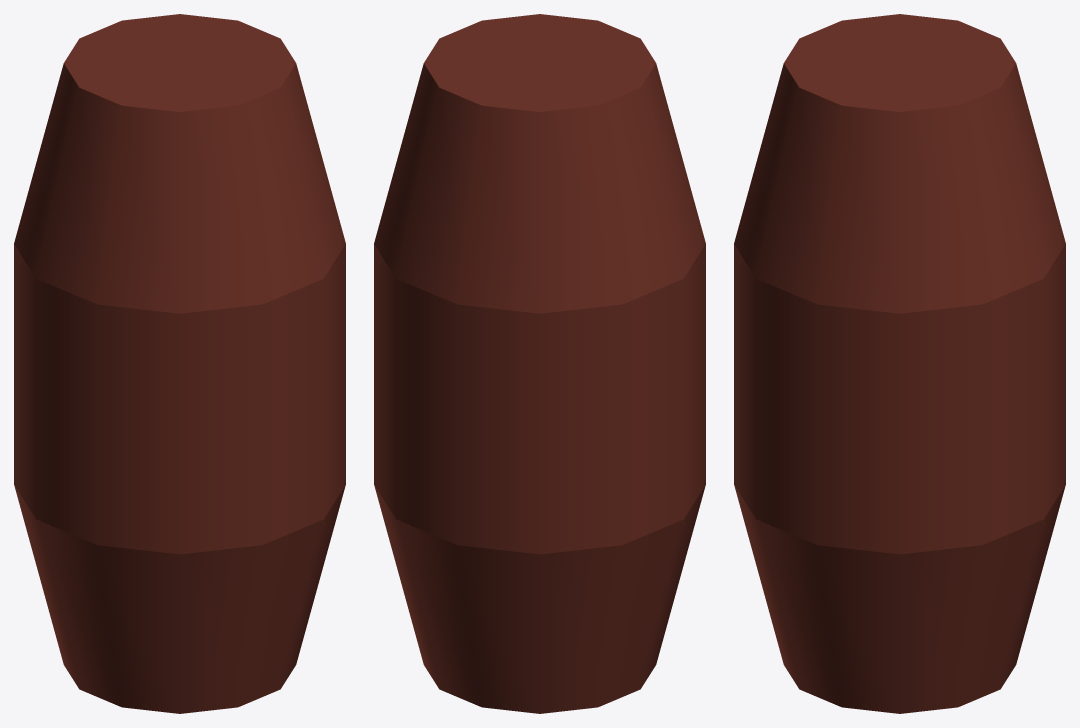
3 views of the same model, side by side, from view 1: azimuth 30°, elevation 25°; view 2: azimuth 150°, elevation 25°; view 3: azimuth 270°, elevation 25° (orthographic).
Visible parts, largest first — view 1: guazhu-a@1.0.0; view 2: guazhu-a@1.0.0; view 3: guazhu-a@1.0.0.
Part boxes in pixels (x1,y1,x2,y2): guazhu-a@1.0.0: [14, 14, 345, 713]; guazhu-a@1.0.0: [374, 14, 705, 713]; guazhu-a@1.0.0: [734, 14, 1065, 713].
Bounding box in the file's own units: 0.5 × 1 × 0.5.
